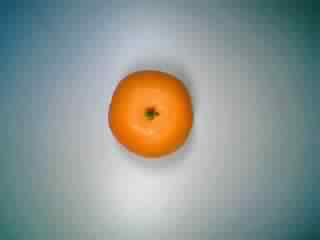orange: (101, 62, 199, 160)
